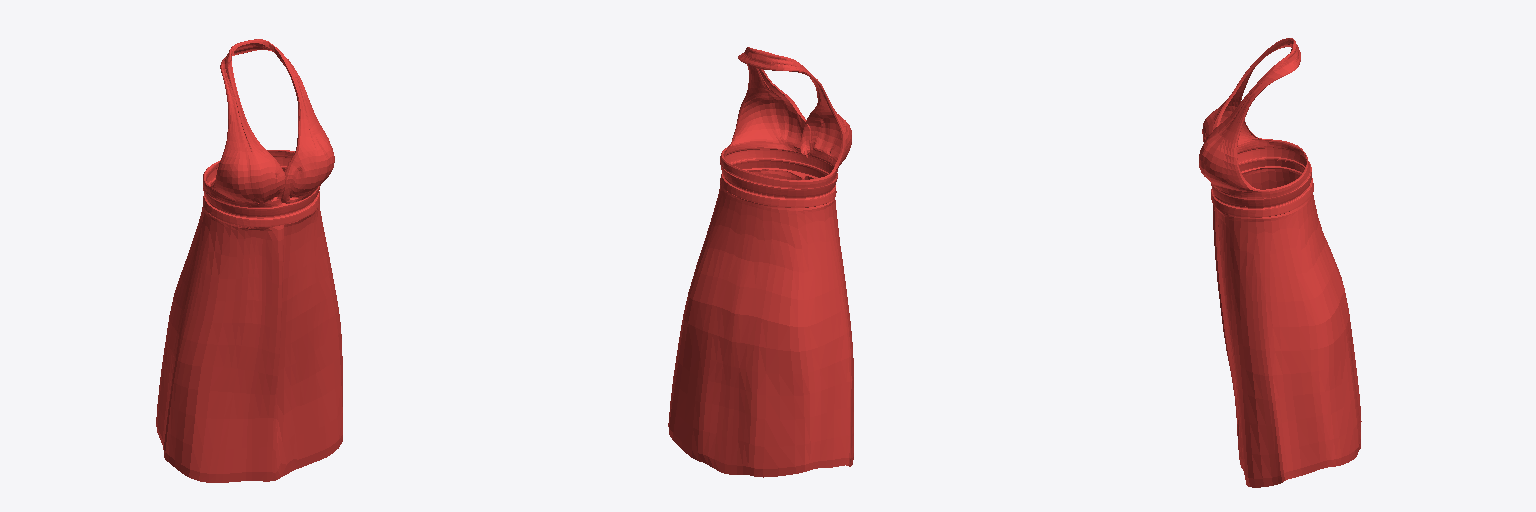
Rendered from changqun6.obj.
3 views of the same model, side by side, from view 1: azimuth 30°, elevation 25°; view 2: azimuth 150°, elevation 25°; view 3: azimuth 270°, elevation 25° (orthographic).
Visible parts, largest first — view 1: changqun; view 2: changqun; view 3: changqun.
Boxes of the visible parts, <box> form: changqun: <box>156,39,342,482</box>; changqun: <box>668,47,853,477</box>; changqun: <box>1199,38,1361,487</box>.
Bounding box in the file's own units: 2.76 × 6.4 × 2.24.